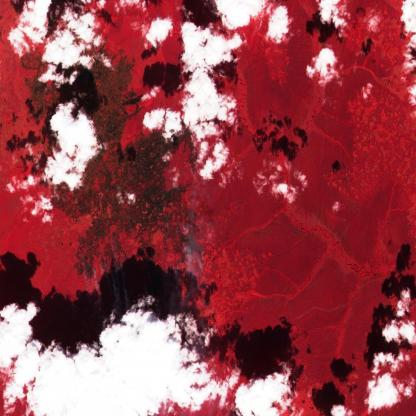fire: (173, 192, 207, 299), (74, 254, 132, 289)
